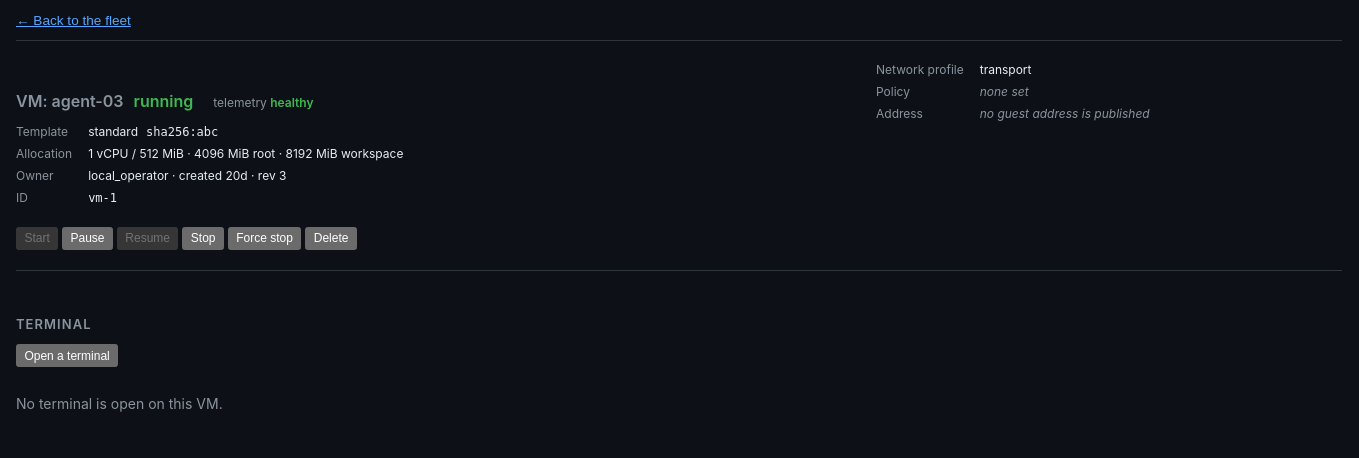
Test: VMDetail › stops the VM from the workspace and re-reads what the host now says
Step 1. Click the button "Stop" → click(203, 238), box [182,227,224,250]
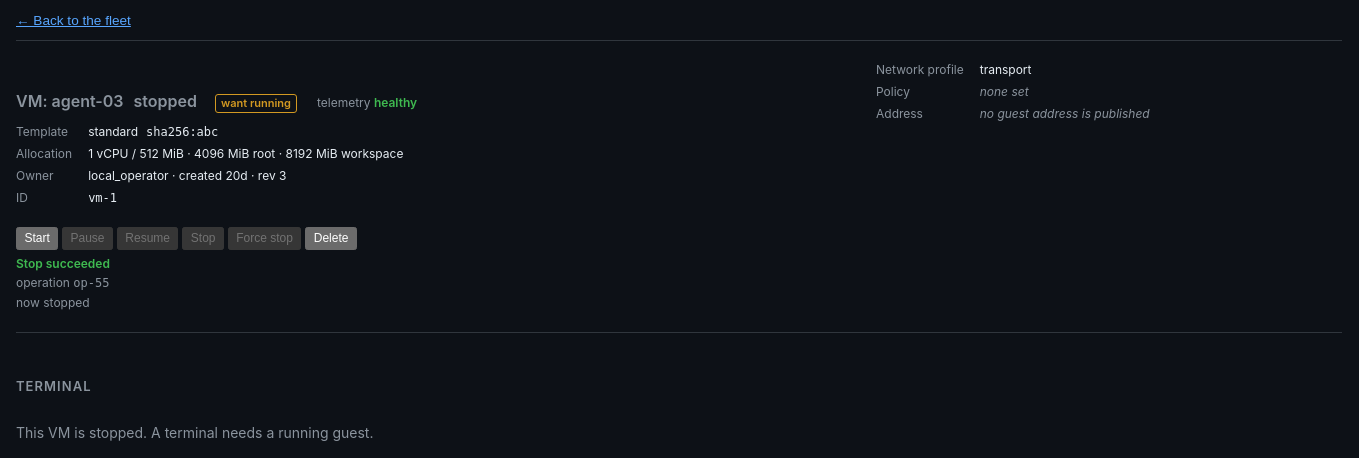
Now the element with test id "vm-result" shows "op-55", box [73,276,109,290]
Now the element with test id "vm-identity" shows "stopped", box [134,91,197,111]
